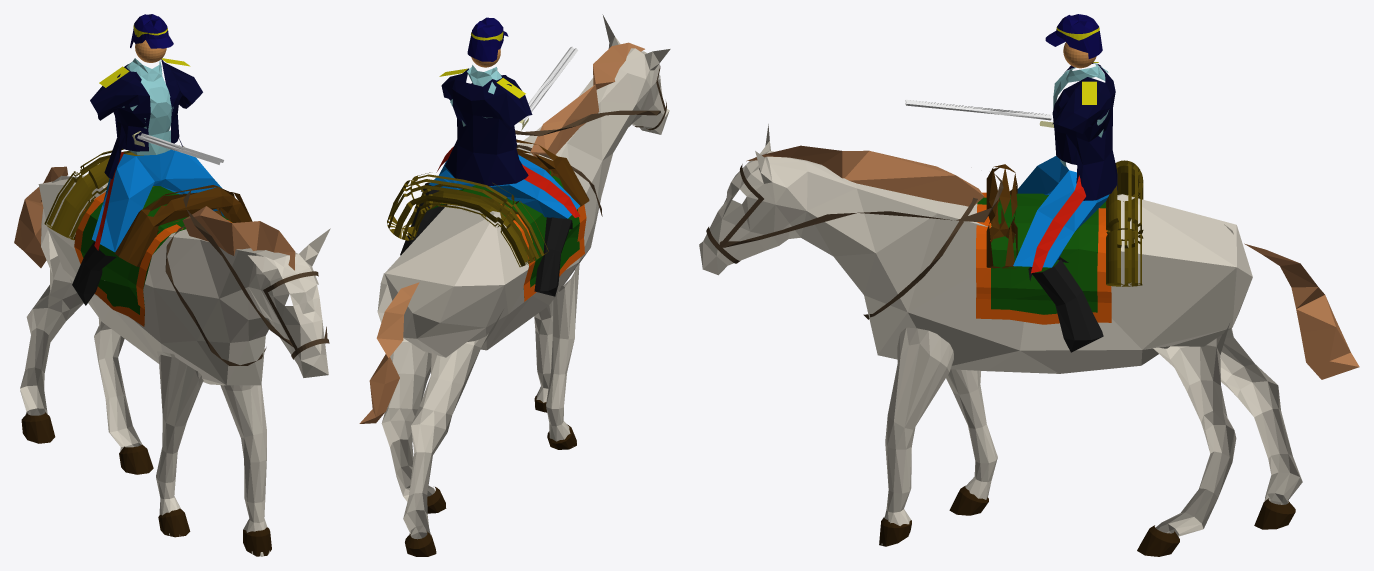
File: Cavalry.glb
The picture shows the model from 3 angles, left to right: view 1: azimuth 30°, elevation 25°; view 2: azimuth 150°, elevation 25°; view 3: azimuth 270°, elevation 25°; orthographic projection. The views are drawn at different scales.
Parts seen in each view (by area): view 1: boot right; view 2: boot right; view 3: boot right.
Part boxes in pixels (box(x1,y1,x2,y2)): boot right: box(14, 14, 330, 556); boot right: box(359, 14, 670, 556); boot right: box(699, 14, 1359, 556).
Bounding box in the file's own units: 0.9939 × 2.7 × 3.1.
